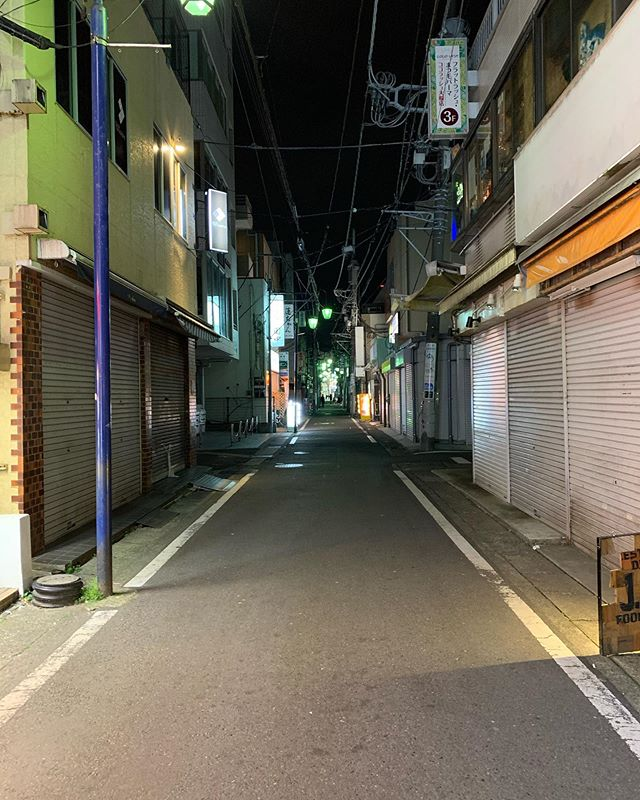building: (459, 1, 640, 646), (1, 1, 184, 610), (184, 1, 257, 454), (357, 194, 461, 452), (218, 224, 285, 450)
street: (16, 422, 608, 789), (242, 1, 442, 287)
